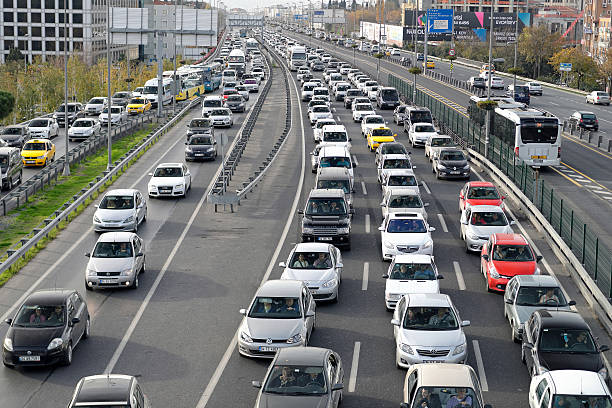bus: (467, 94, 570, 172), (197, 62, 222, 90)
car: (2, 285, 90, 372), (523, 310, 611, 376), (393, 295, 470, 368), (239, 278, 314, 352), (259, 347, 342, 408), (401, 362, 486, 408), (506, 272, 564, 335), (86, 232, 146, 292), (287, 240, 343, 302), (480, 233, 535, 291), (528, 371, 612, 408), (70, 373, 150, 408), (303, 189, 353, 243), (94, 187, 146, 232), (380, 213, 435, 253), (385, 255, 438, 295), (463, 206, 507, 253), (149, 163, 190, 199), (434, 147, 469, 181), (460, 181, 502, 209), (383, 189, 425, 216), (22, 138, 58, 167), (1, 147, 23, 192), (314, 167, 352, 192), (184, 134, 216, 162), (1, 123, 30, 152), (68, 117, 100, 143), (319, 145, 352, 170), (382, 170, 417, 193), (28, 116, 58, 142), (410, 120, 440, 146), (426, 134, 457, 156), (369, 126, 396, 150), (56, 99, 84, 122), (210, 106, 237, 129), (378, 83, 402, 108), (322, 125, 352, 144), (185, 118, 216, 136), (127, 96, 153, 117), (101, 105, 128, 125), (382, 152, 412, 170), (574, 108, 598, 130), (86, 95, 111, 114), (354, 101, 376, 121), (586, 88, 609, 105), (363, 114, 387, 130), (309, 105, 333, 121), (228, 94, 247, 112), (203, 95, 221, 114), (335, 81, 353, 100), (244, 77, 261, 94), (527, 81, 544, 96), (513, 85, 531, 99), (488, 76, 504, 90), (470, 76, 486, 88), (423, 59, 436, 70)
truck: (287, 45, 308, 70), (229, 50, 245, 74)
